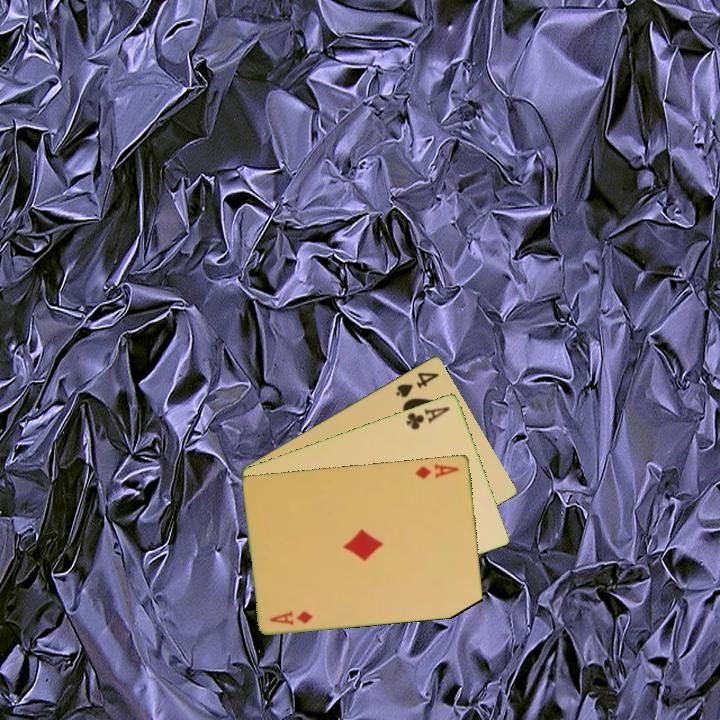4s: (392, 368, 442, 400)
Ac: (403, 403, 453, 432)
Ad: (412, 460, 462, 481), (267, 607, 316, 628)
